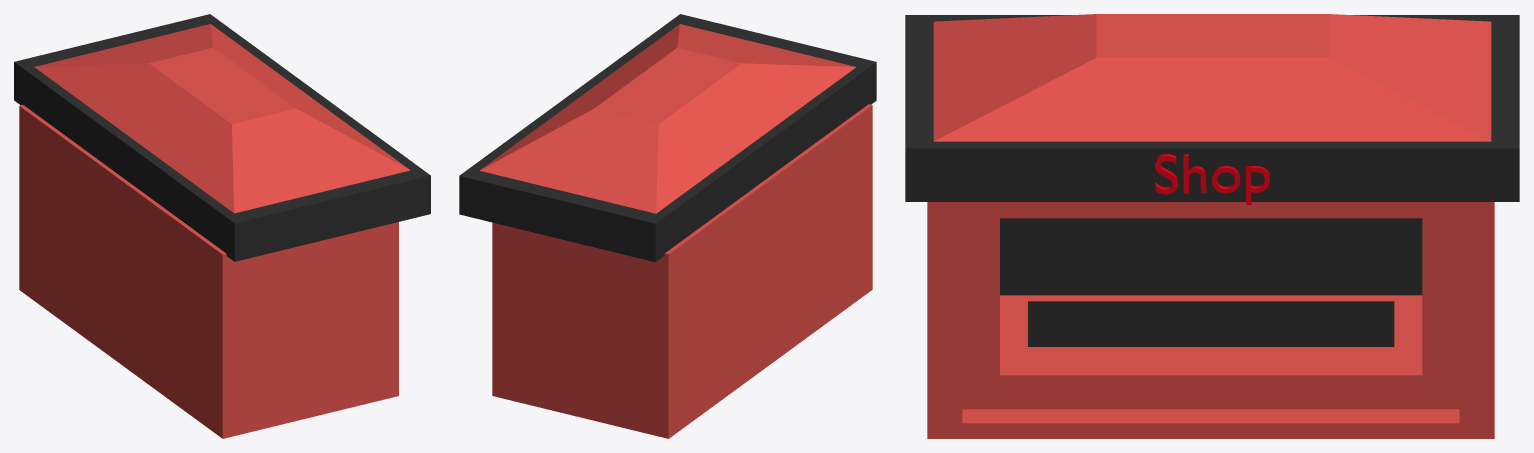
The model's file is Shop.fbx.
3 renders of one model, left to right at view 1: azimuth 30°, elevation 25°; view 2: azimuth 150°, elevation 25°; view 3: azimuth 270°, elevation 25°, orthographic. The views are drawn at different scales.
Parts seen in each view (by area): view 1: Cube, Cube.002, Cube.001; view 2: Cube, Cube.002, Cube.001; view 3: Cube, Cube.002, Cube.001, Text.
Boxes of the visible parts, box(x1,y1,x2,y2) form: Cube: box(19, 105, 398, 438); Cube.002: box(34, 24, 410, 213); Cube.001: box(14, 14, 430, 261); Cube: box(492, 104, 872, 438); Cube.002: box(480, 24, 856, 213); Cube.001: box(459, 14, 876, 262); Cube: box(927, 202, 1494, 438); Cube.002: box(933, 14, 1491, 141); Cube.001: box(905, 15, 1519, 201); Text: box(1155, 154, 1269, 205).
Size of the model in its own units: 1691 by 1999 by 3157.
